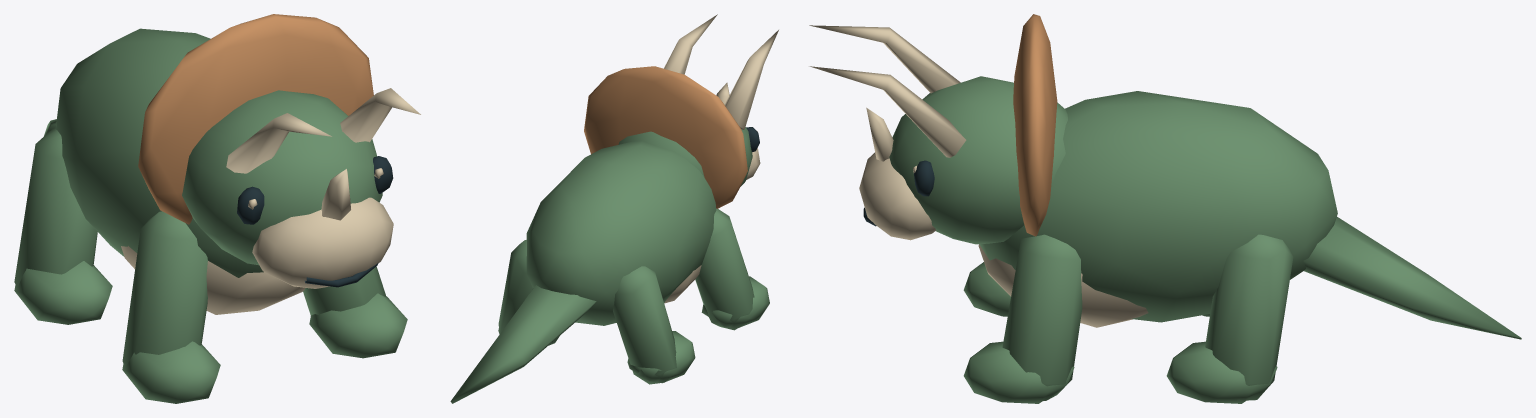
The model's file is org_triceratops.glb.
3 views of the same model, side by side, from view 1: azimuth 30°, elevation 25°; view 2: azimuth 150°, elevation 25°; view 3: azimuth 270°, elevation 25° (orthographic). The views are drawn at different scales.
Parts seen in each view (by area): view 1: Head, Body, Leg_FL, Leg_BL, Leg_FR, Eye_L, Eye_R; view 2: Body, Head, Leg_BL, Tail, Leg_FL, Leg_BR; view 3: Body, Head, Leg_BR, Leg_FR, Tail, Leg_FL, Eye_R.
Part boxes in pixels (left/top/right/bottom): Head: left=138, top=14, right=420, bottom=288; Body: left=56, top=28, right=305, bottom=314; Leg_FL: left=122, top=211, right=220, bottom=403; Leg_BL: left=14, top=127, right=112, bottom=324; Leg_FR: left=303, top=266, right=407, bottom=358; Eye_L: left=237, top=186, right=264, bottom=224; Eye_R: left=373, top=156, right=393, bottom=193; Body: left=526, top=141, right=716, bottom=325; Head: left=584, top=14, right=778, bottom=208; Leg_BL: left=613, top=266, right=695, bottom=384; Tail: left=450, top=285, right=596, bottom=403; Leg_FL: left=695, top=208, right=769, bottom=330; Leg_BR: left=498, top=239, right=559, bottom=345; Body: left=978, top=91, right=1337, bottom=327; Head: left=809, top=14, right=1067, bottom=244; Leg_BR: left=1166, top=234, right=1293, bottom=403; Leg_FR: left=963, top=234, right=1082, bottom=403; Tail: left=1303, top=217, right=1521, bottom=339; Leg_FL: left=963, top=262, right=1010, bottom=316; Eye_R: left=913, top=160, right=934, bottom=196.
Size of the model in its own units: 1.28 by 1.61 by 3.15.
